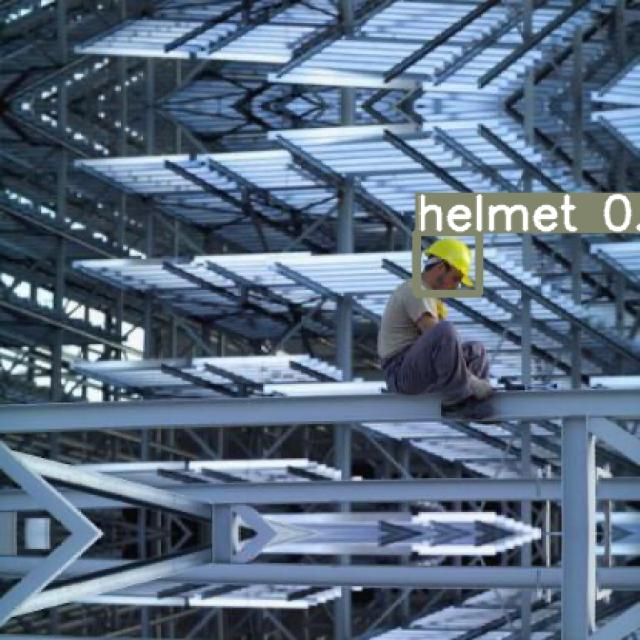helmet: (416, 231, 478, 293)
